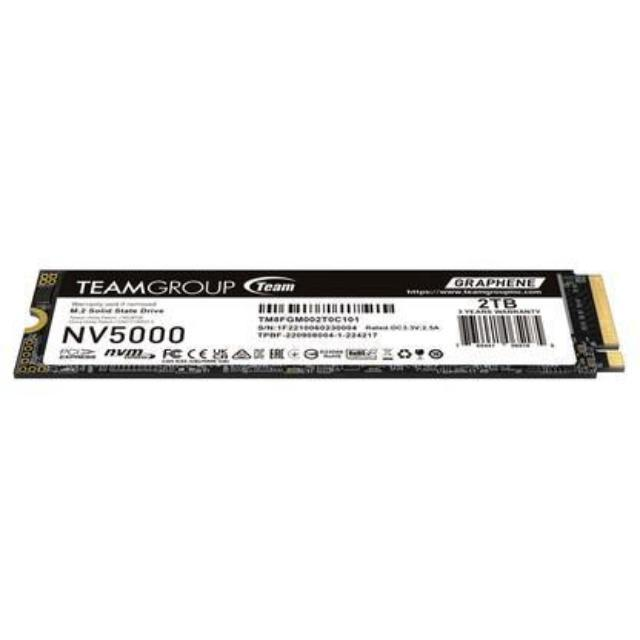CPU_Fan: (19, 260, 624, 385)
